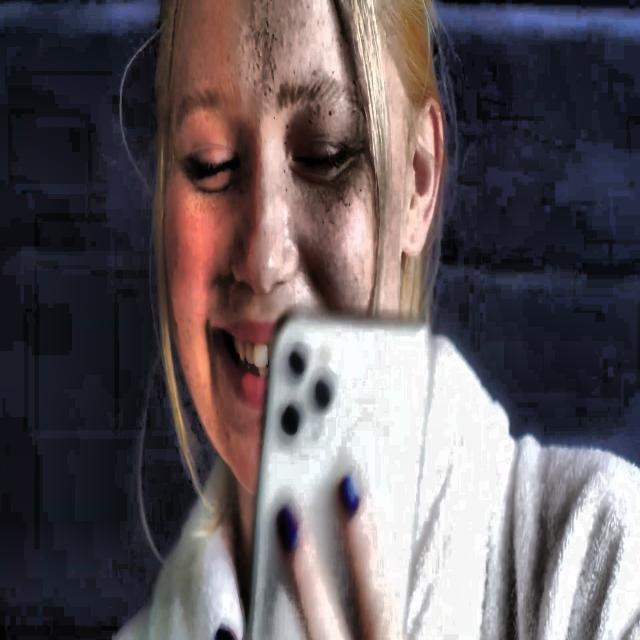Phone: (246, 307, 431, 640)
